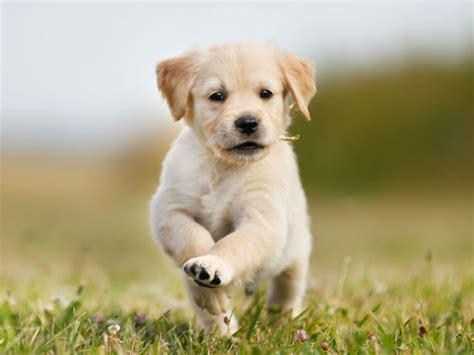dog: (150, 43, 315, 333)
